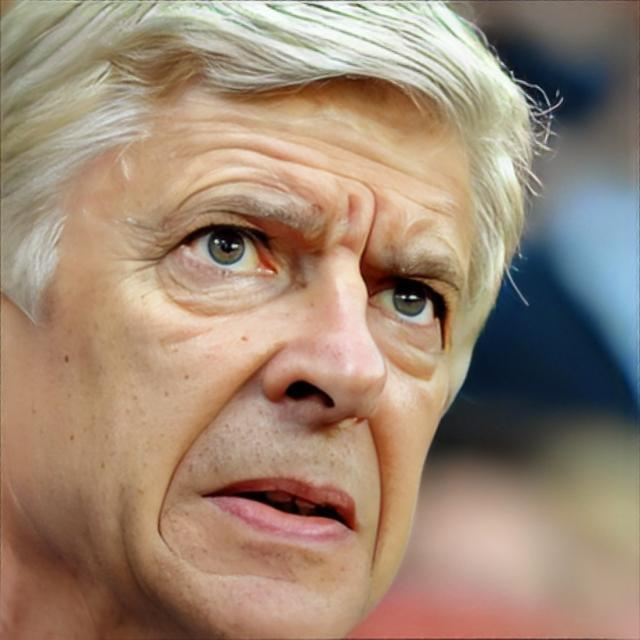disgust: (0, 70, 476, 640)
